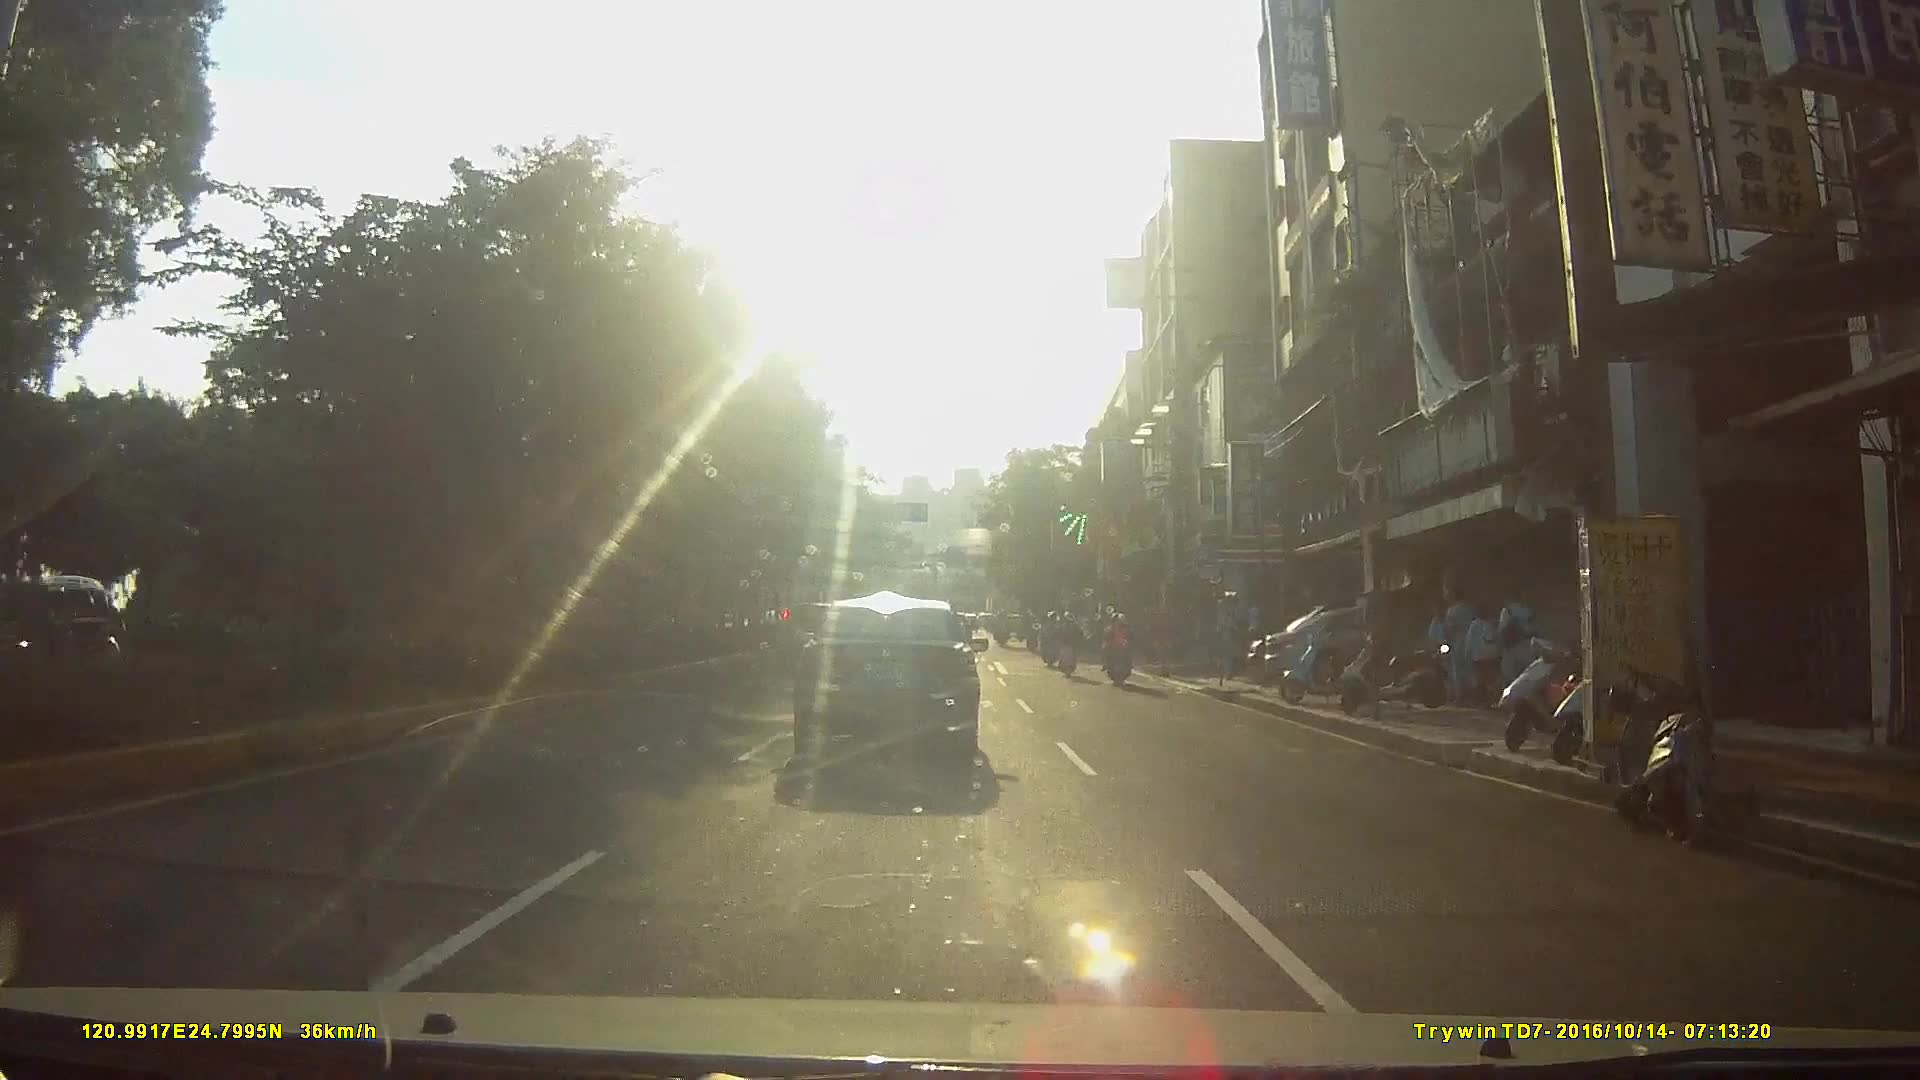pedestrian: (1497, 580, 1542, 727), (1456, 597, 1506, 715), (1445, 580, 1482, 712)
rider: (1104, 613, 1138, 692), (1055, 612, 1084, 680), (1042, 611, 1062, 670)
vehicle: (790, 598, 1005, 787), (1, 576, 138, 706)
